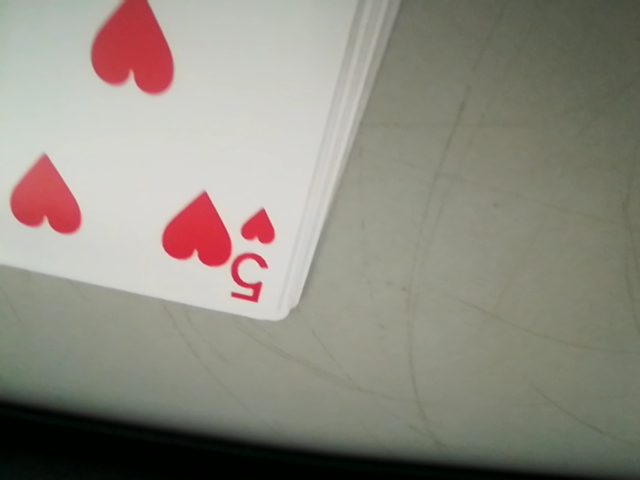hx 5: (230, 204, 281, 304)
